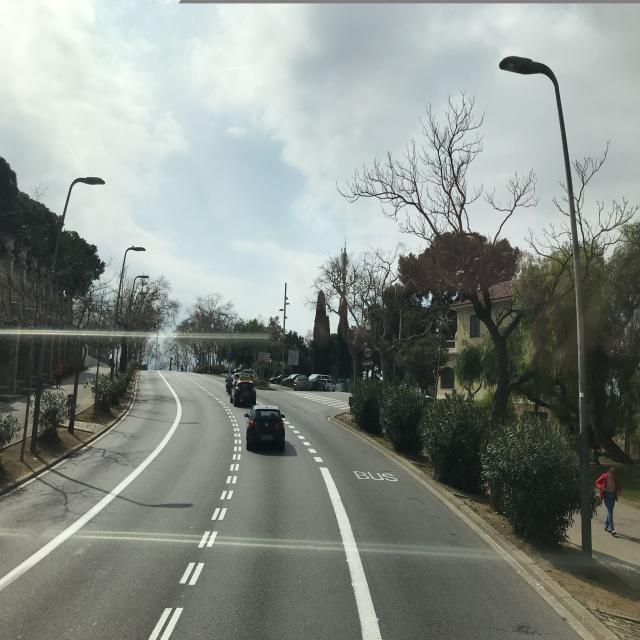car: (246, 403, 286, 452), (231, 379, 257, 408), (316, 374, 332, 390), (293, 374, 308, 390), (225, 374, 236, 394), (307, 373, 319, 390), (267, 376, 281, 387)
